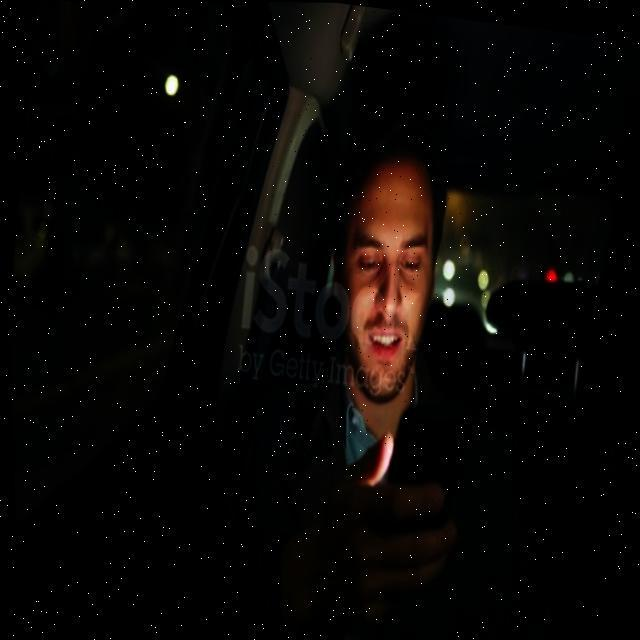PhoneCall: (374, 392, 478, 555)
